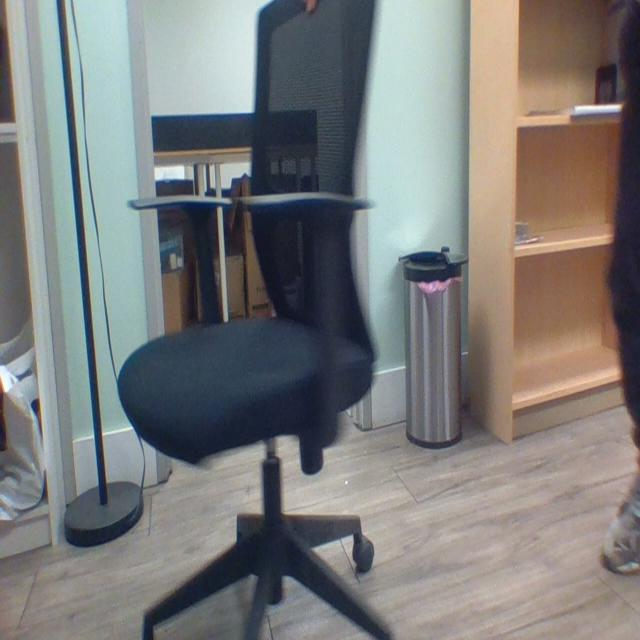black-chair: (116, 3, 397, 639)
